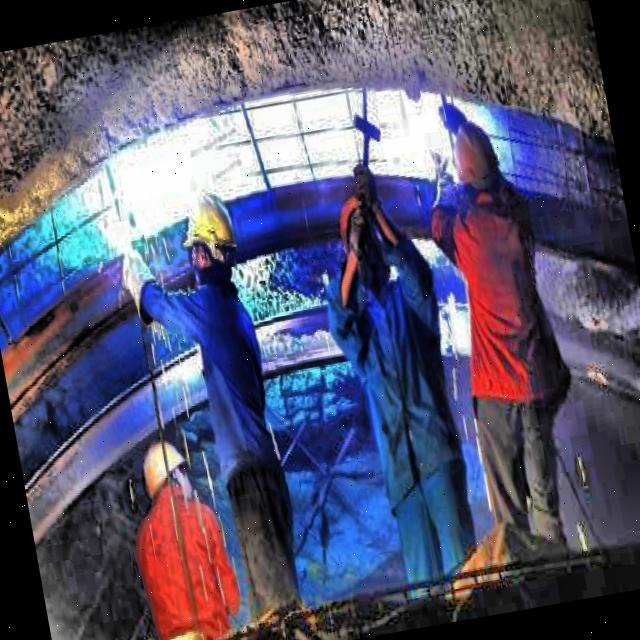helmet: (180, 188, 239, 286), (140, 428, 200, 518), (448, 116, 506, 208), (335, 190, 388, 290)
